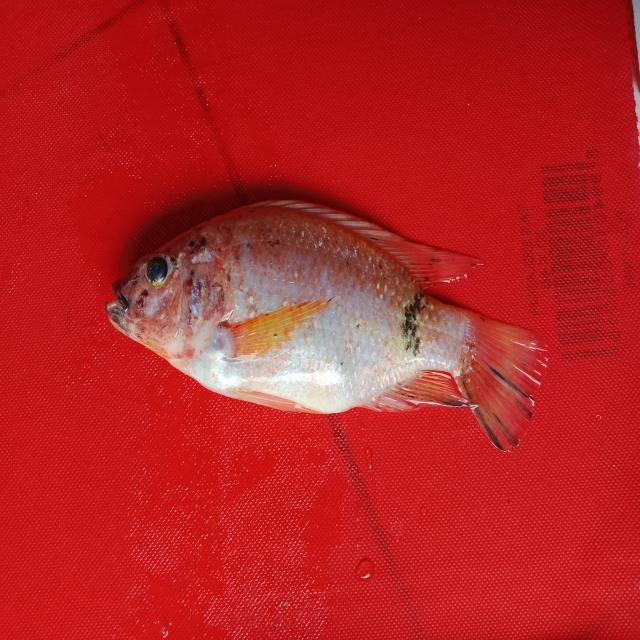ikan: (94, 173, 559, 482)
